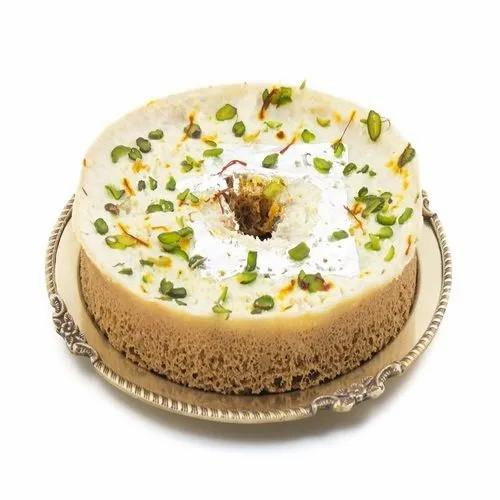Ghevar: (75, 84, 424, 395)
